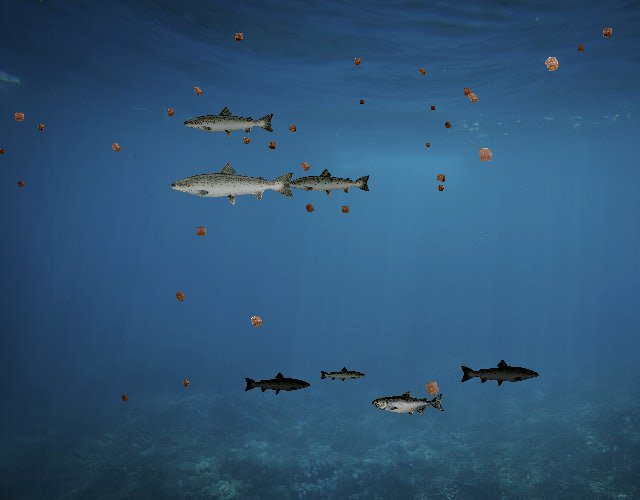Fish: (168, 160, 297, 206), (183, 106, 277, 140), (286, 167, 372, 198), (460, 358, 541, 387), (372, 390, 445, 417), (243, 372, 311, 396), (319, 367, 366, 384)
Pellet: (244, 309, 269, 334), (349, 54, 366, 71), (178, 376, 193, 391), (433, 181, 448, 195), (118, 391, 132, 405), (34, 120, 48, 134)
